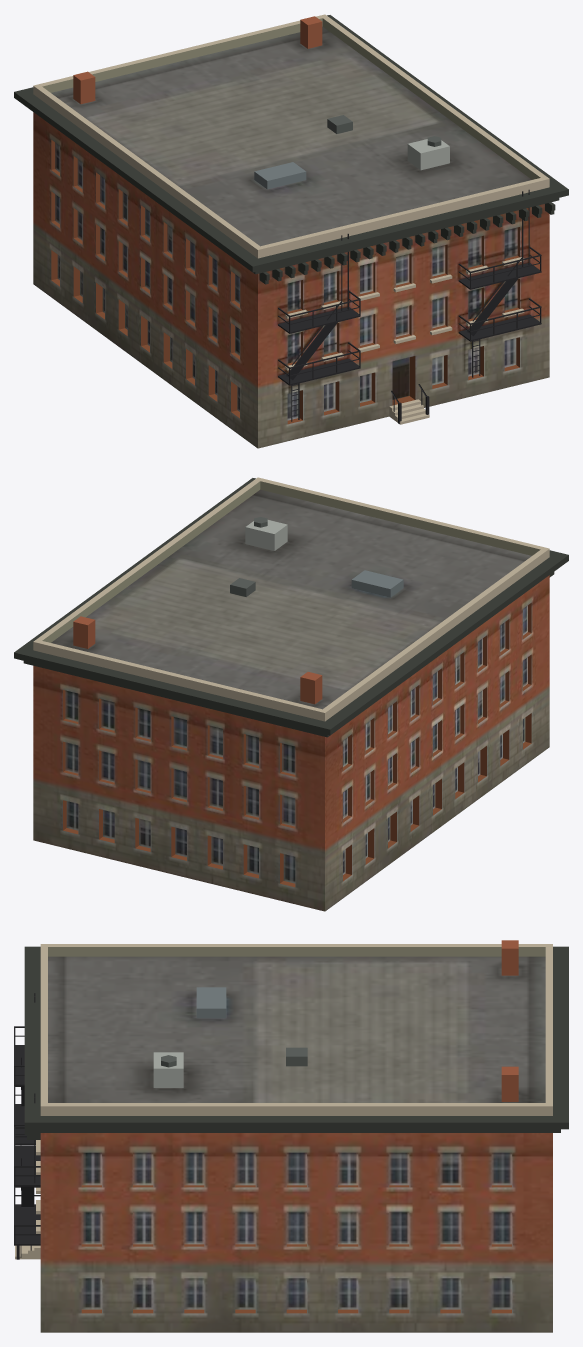
File: seattle_low_e.glb
3 views of the same model, one above another, from view 1: azimuth 30°, elevation 25°; view 2: azimuth 150°, elevation 25°; view 3: azimuth 270°, elevation 25° (orthographic). The views are drawn at different scales.
Visible parts, largest first — view 1: seattle_low_e; view 2: seattle_low_e; view 3: seattle_low_e.
Boxes of the visible parts, left/top/right/bottom form: seattle_low_e: left=14, top=14, right=568, bottom=448; seattle_low_e: left=14, top=477, right=568, bottom=911; seattle_low_e: left=14, top=940, right=568, bottom=1332.
Bounding box in the file's own units: 19.5 × 12.6 × 26.
Materials: 1 (1 with a texture image).
